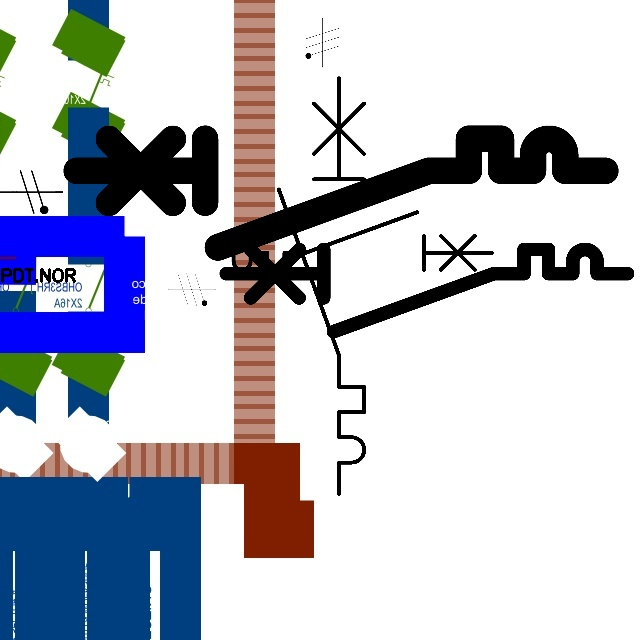interruptor_termomagnetico: (62, 125, 618, 261), (268, 67, 375, 504), (215, 239, 638, 342), (205, 205, 499, 277)
